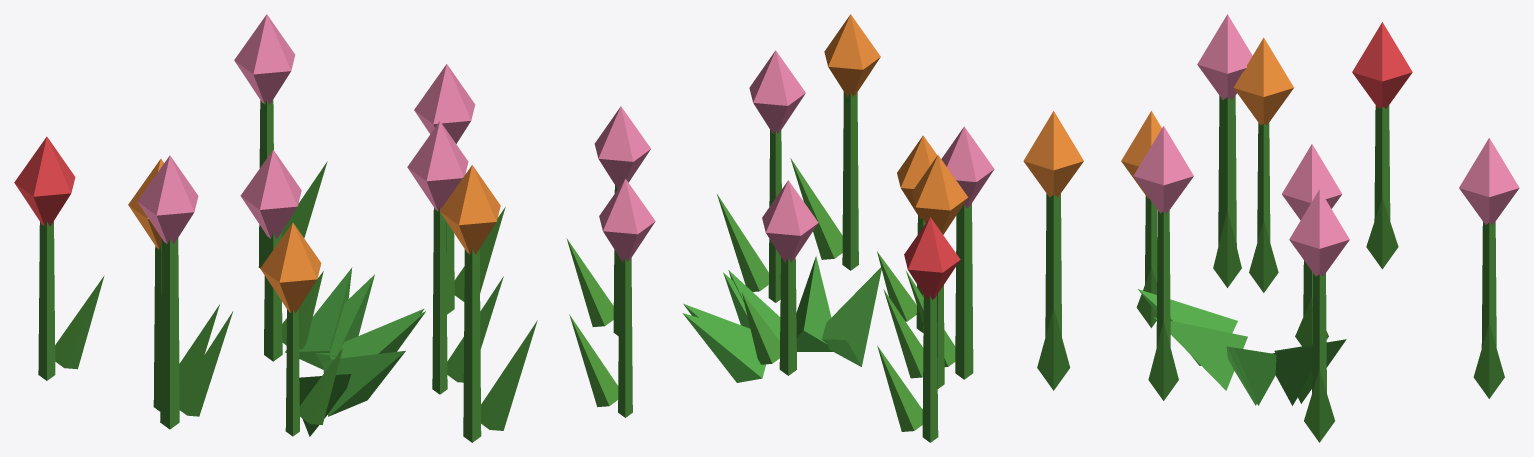
File: Flowers_Tulip.fbx
The picture shows the model from 3 angles, left to right: view 1: azimuth 30°, elevation 25°; view 2: azimuth 150°, elevation 25°; view 3: azimuth 270°, elevation 25°; orthographic projection. The views are drawn at different scales.
Parts seen in each view (by area): view 1: Flowers_Tulip; view 2: Flowers_Tulip; view 3: Flowers_Tulip.
Part boxes in pixels (x1,y1,x2,y2): Flowers_Tulip: [14, 14, 537, 442]; Flowers_Tulip: [566, 14, 994, 442]; Flowers_Tulip: [1023, 14, 1519, 442].
Size of the model in its own units: 1.1 by 0.7178 by 1.09.
